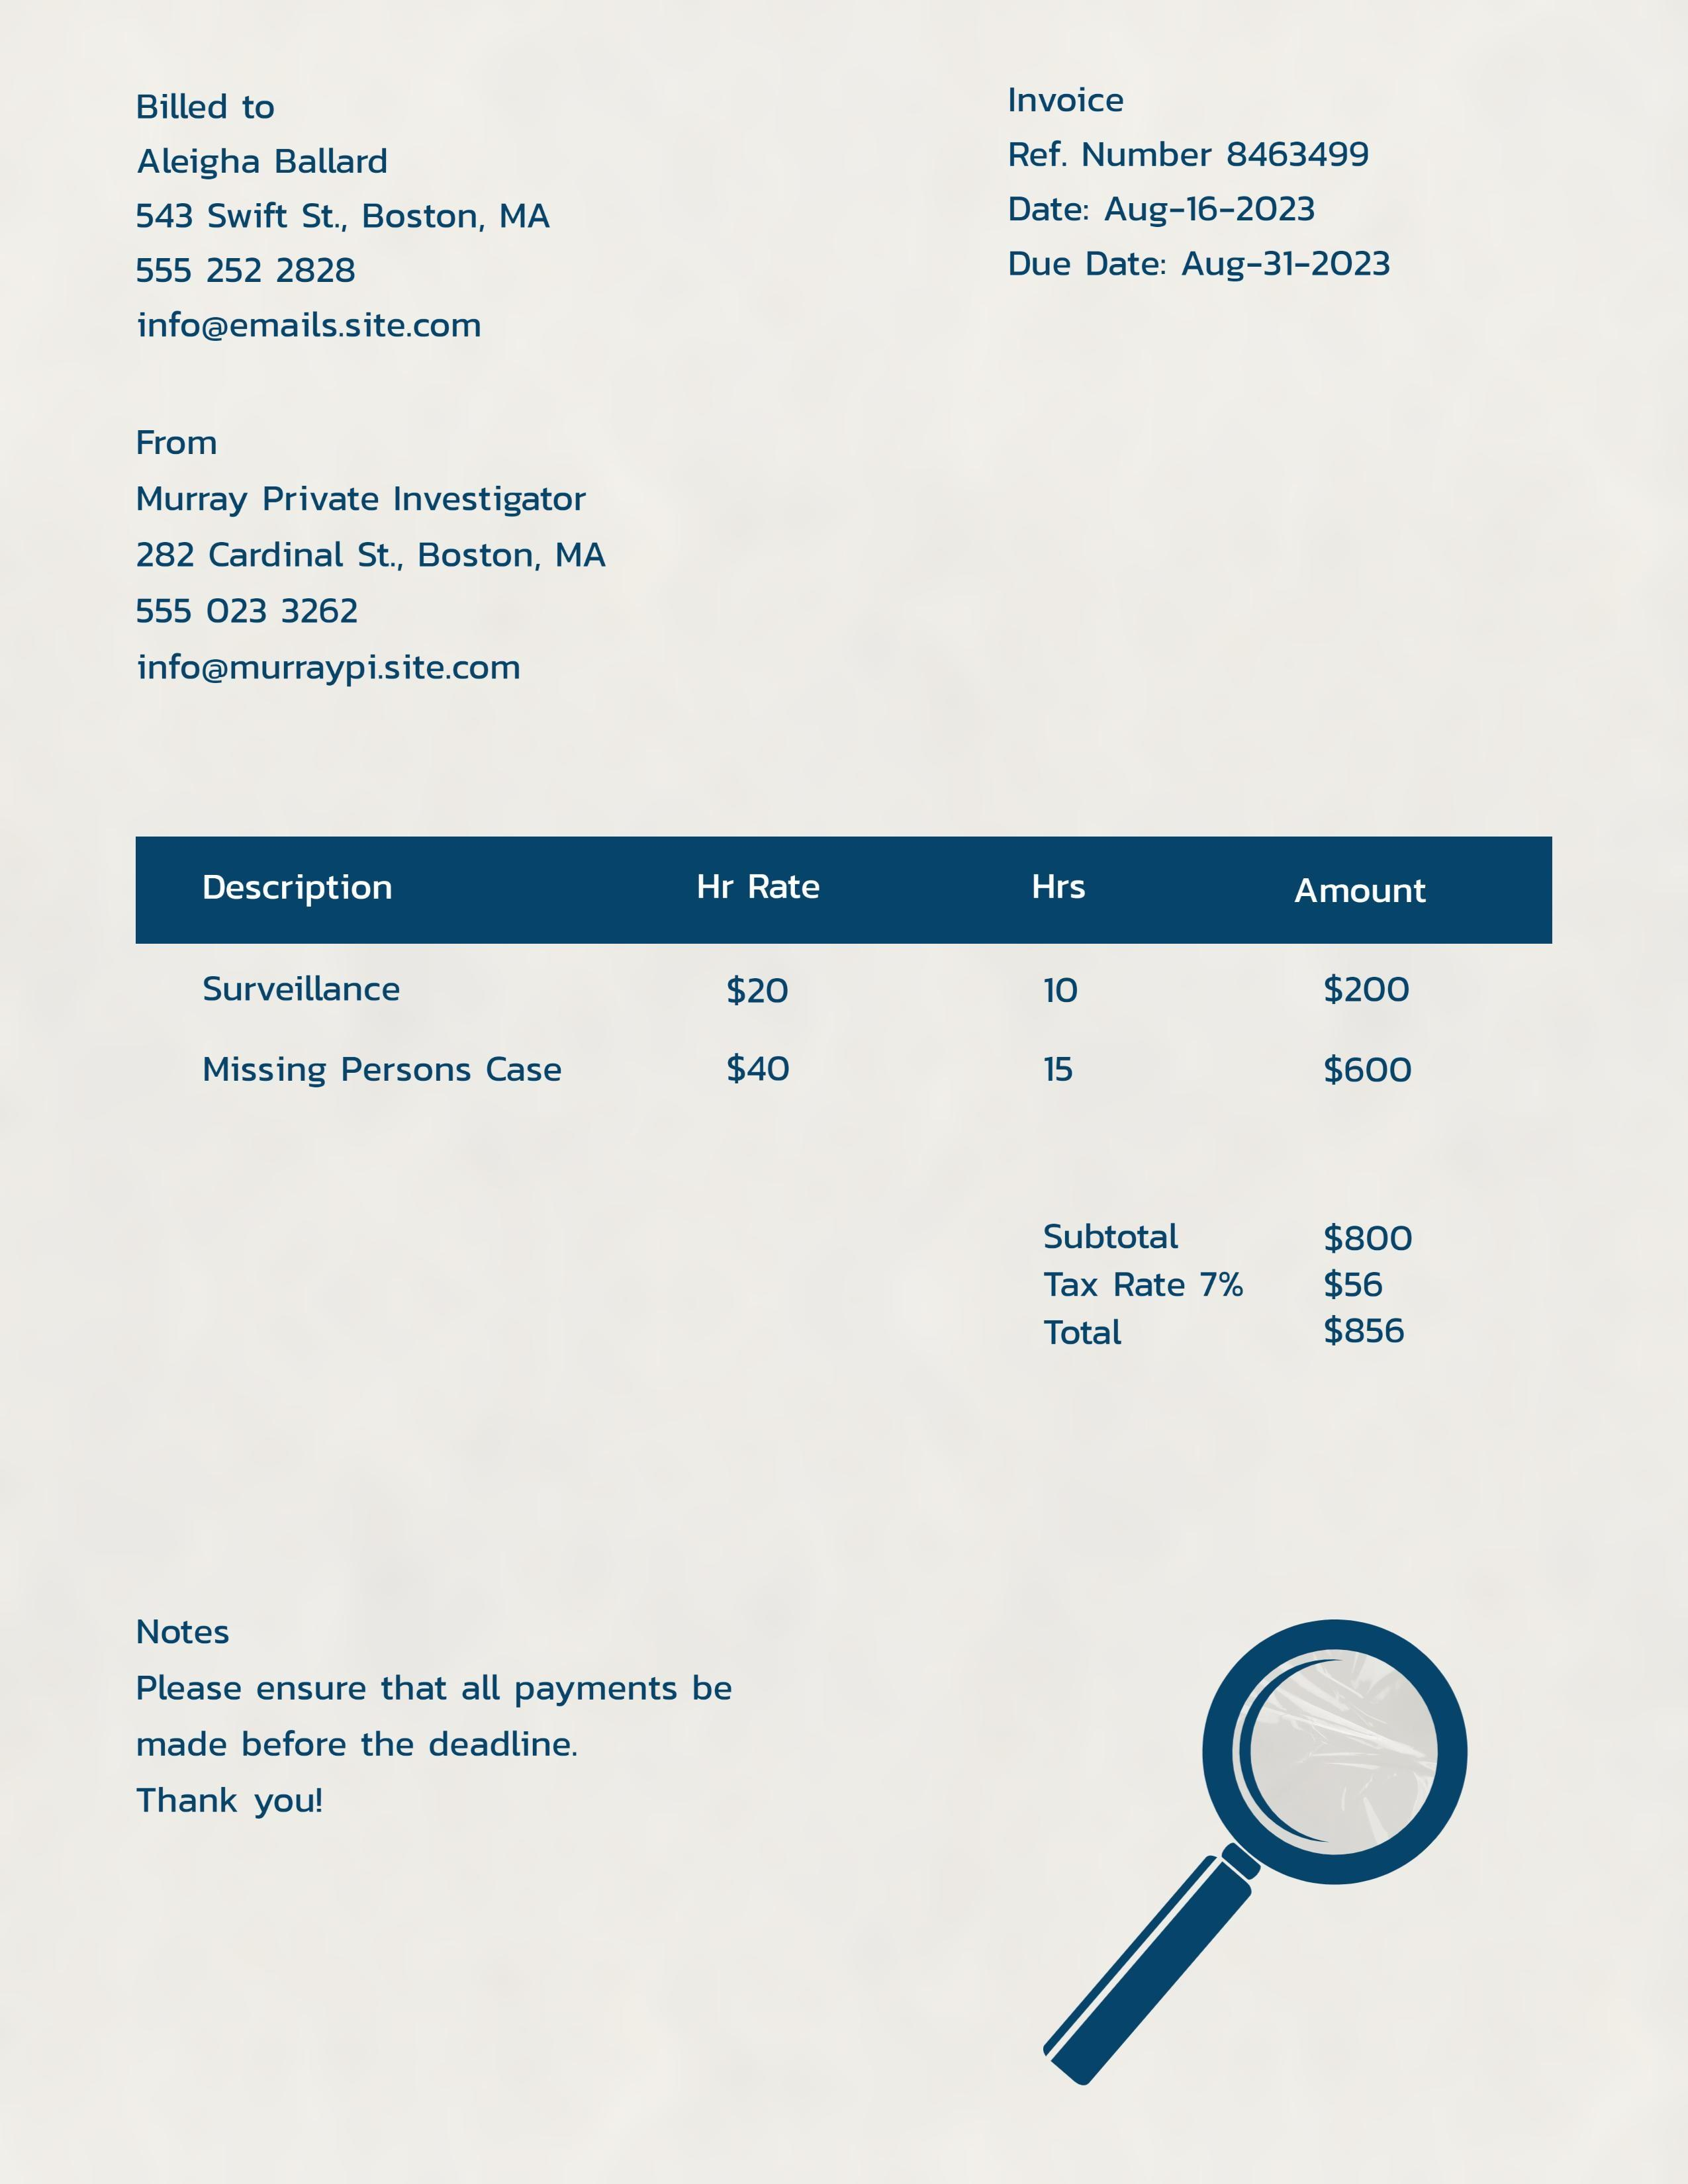ROI: (165, 854, 1450, 1112), (126, 1592, 748, 1837), (132, 477, 616, 695), (136, 139, 553, 354), (1033, 1214, 1436, 1390), (1003, 132, 1407, 288)
